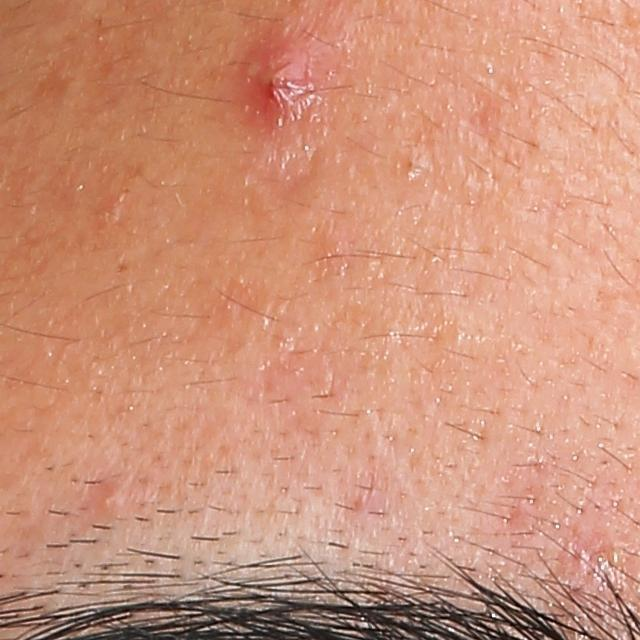papule: (244, 28, 321, 121), (91, 477, 132, 522)
